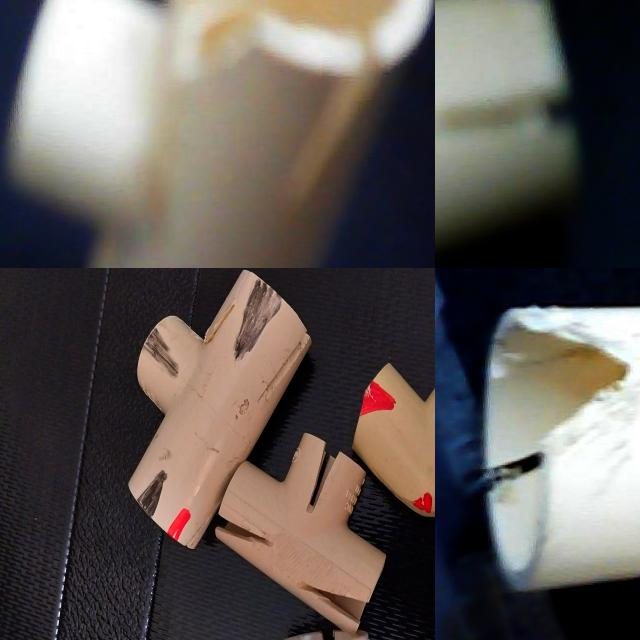Defective: (492, 311, 640, 445), (322, 18, 378, 216), (165, 0, 265, 101), (435, 100, 598, 139), (483, 453, 558, 501), (163, 504, 198, 551), (277, 501, 308, 544), (288, 619, 346, 640), (149, 603, 178, 640), (174, 495, 202, 528), (151, 542, 178, 567)
T Joint: (481, 306, 640, 594), (435, 0, 582, 268), (137, 479, 358, 640)
